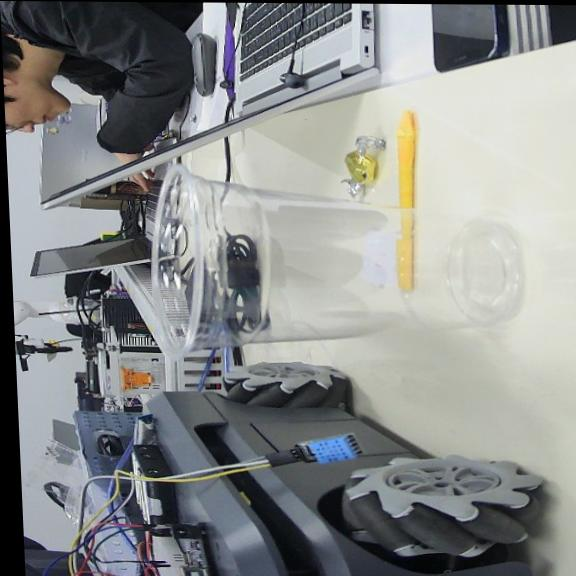Plastik: (151, 166, 521, 356)
